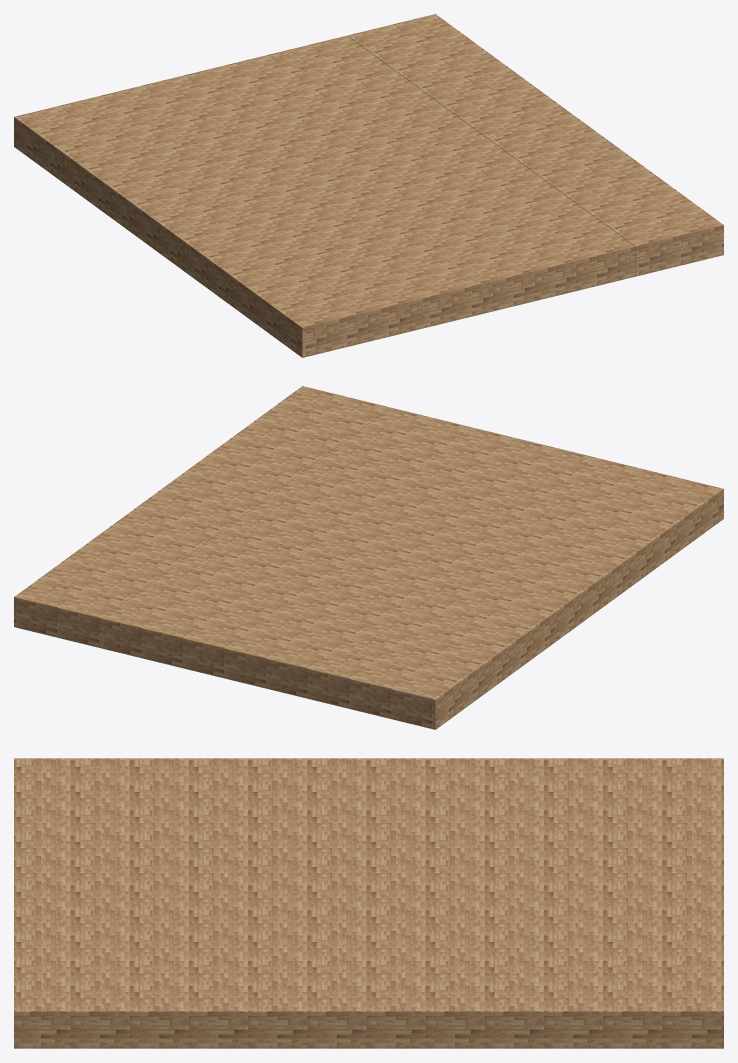
File: floor.glb
3 views of the same model, one above another, from view 1: azimuth 30°, elevation 25°; view 2: azimuth 150°, elevation 25°; view 3: azimuth 270°, elevation 25° (orthographic). The views are drawn at different scales.
Visible parts, largest first — view 1: floor; view 2: floor; view 3: floor.
Boxes of the visible parts, bbox=[...] form: floor: bbox=[14, 14, 723, 357]; floor: bbox=[14, 386, 723, 729]; floor: bbox=[14, 758, 723, 1048].
Bounding box in the file's own units: 3.09 × 0.2096 × 3.66.
Materials: 1 (1 with a texture image).
